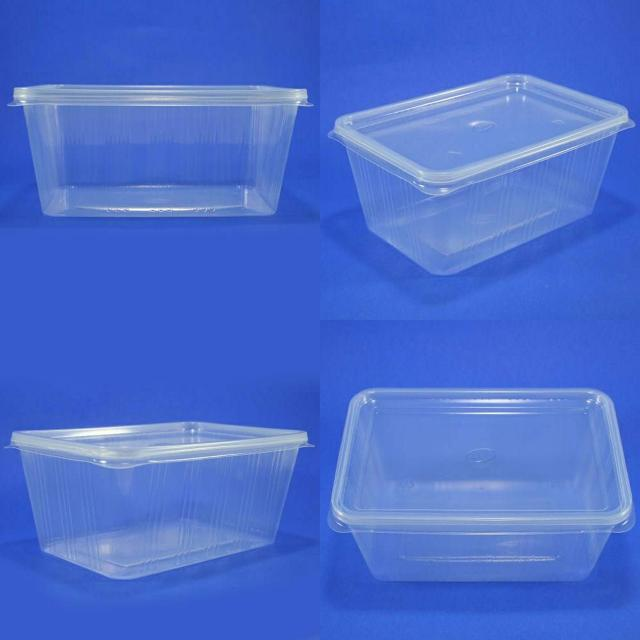Single-Use-Plastic: (330, 75, 634, 275), (329, 389, 634, 581), (11, 421, 308, 578), (11, 85, 309, 216)
